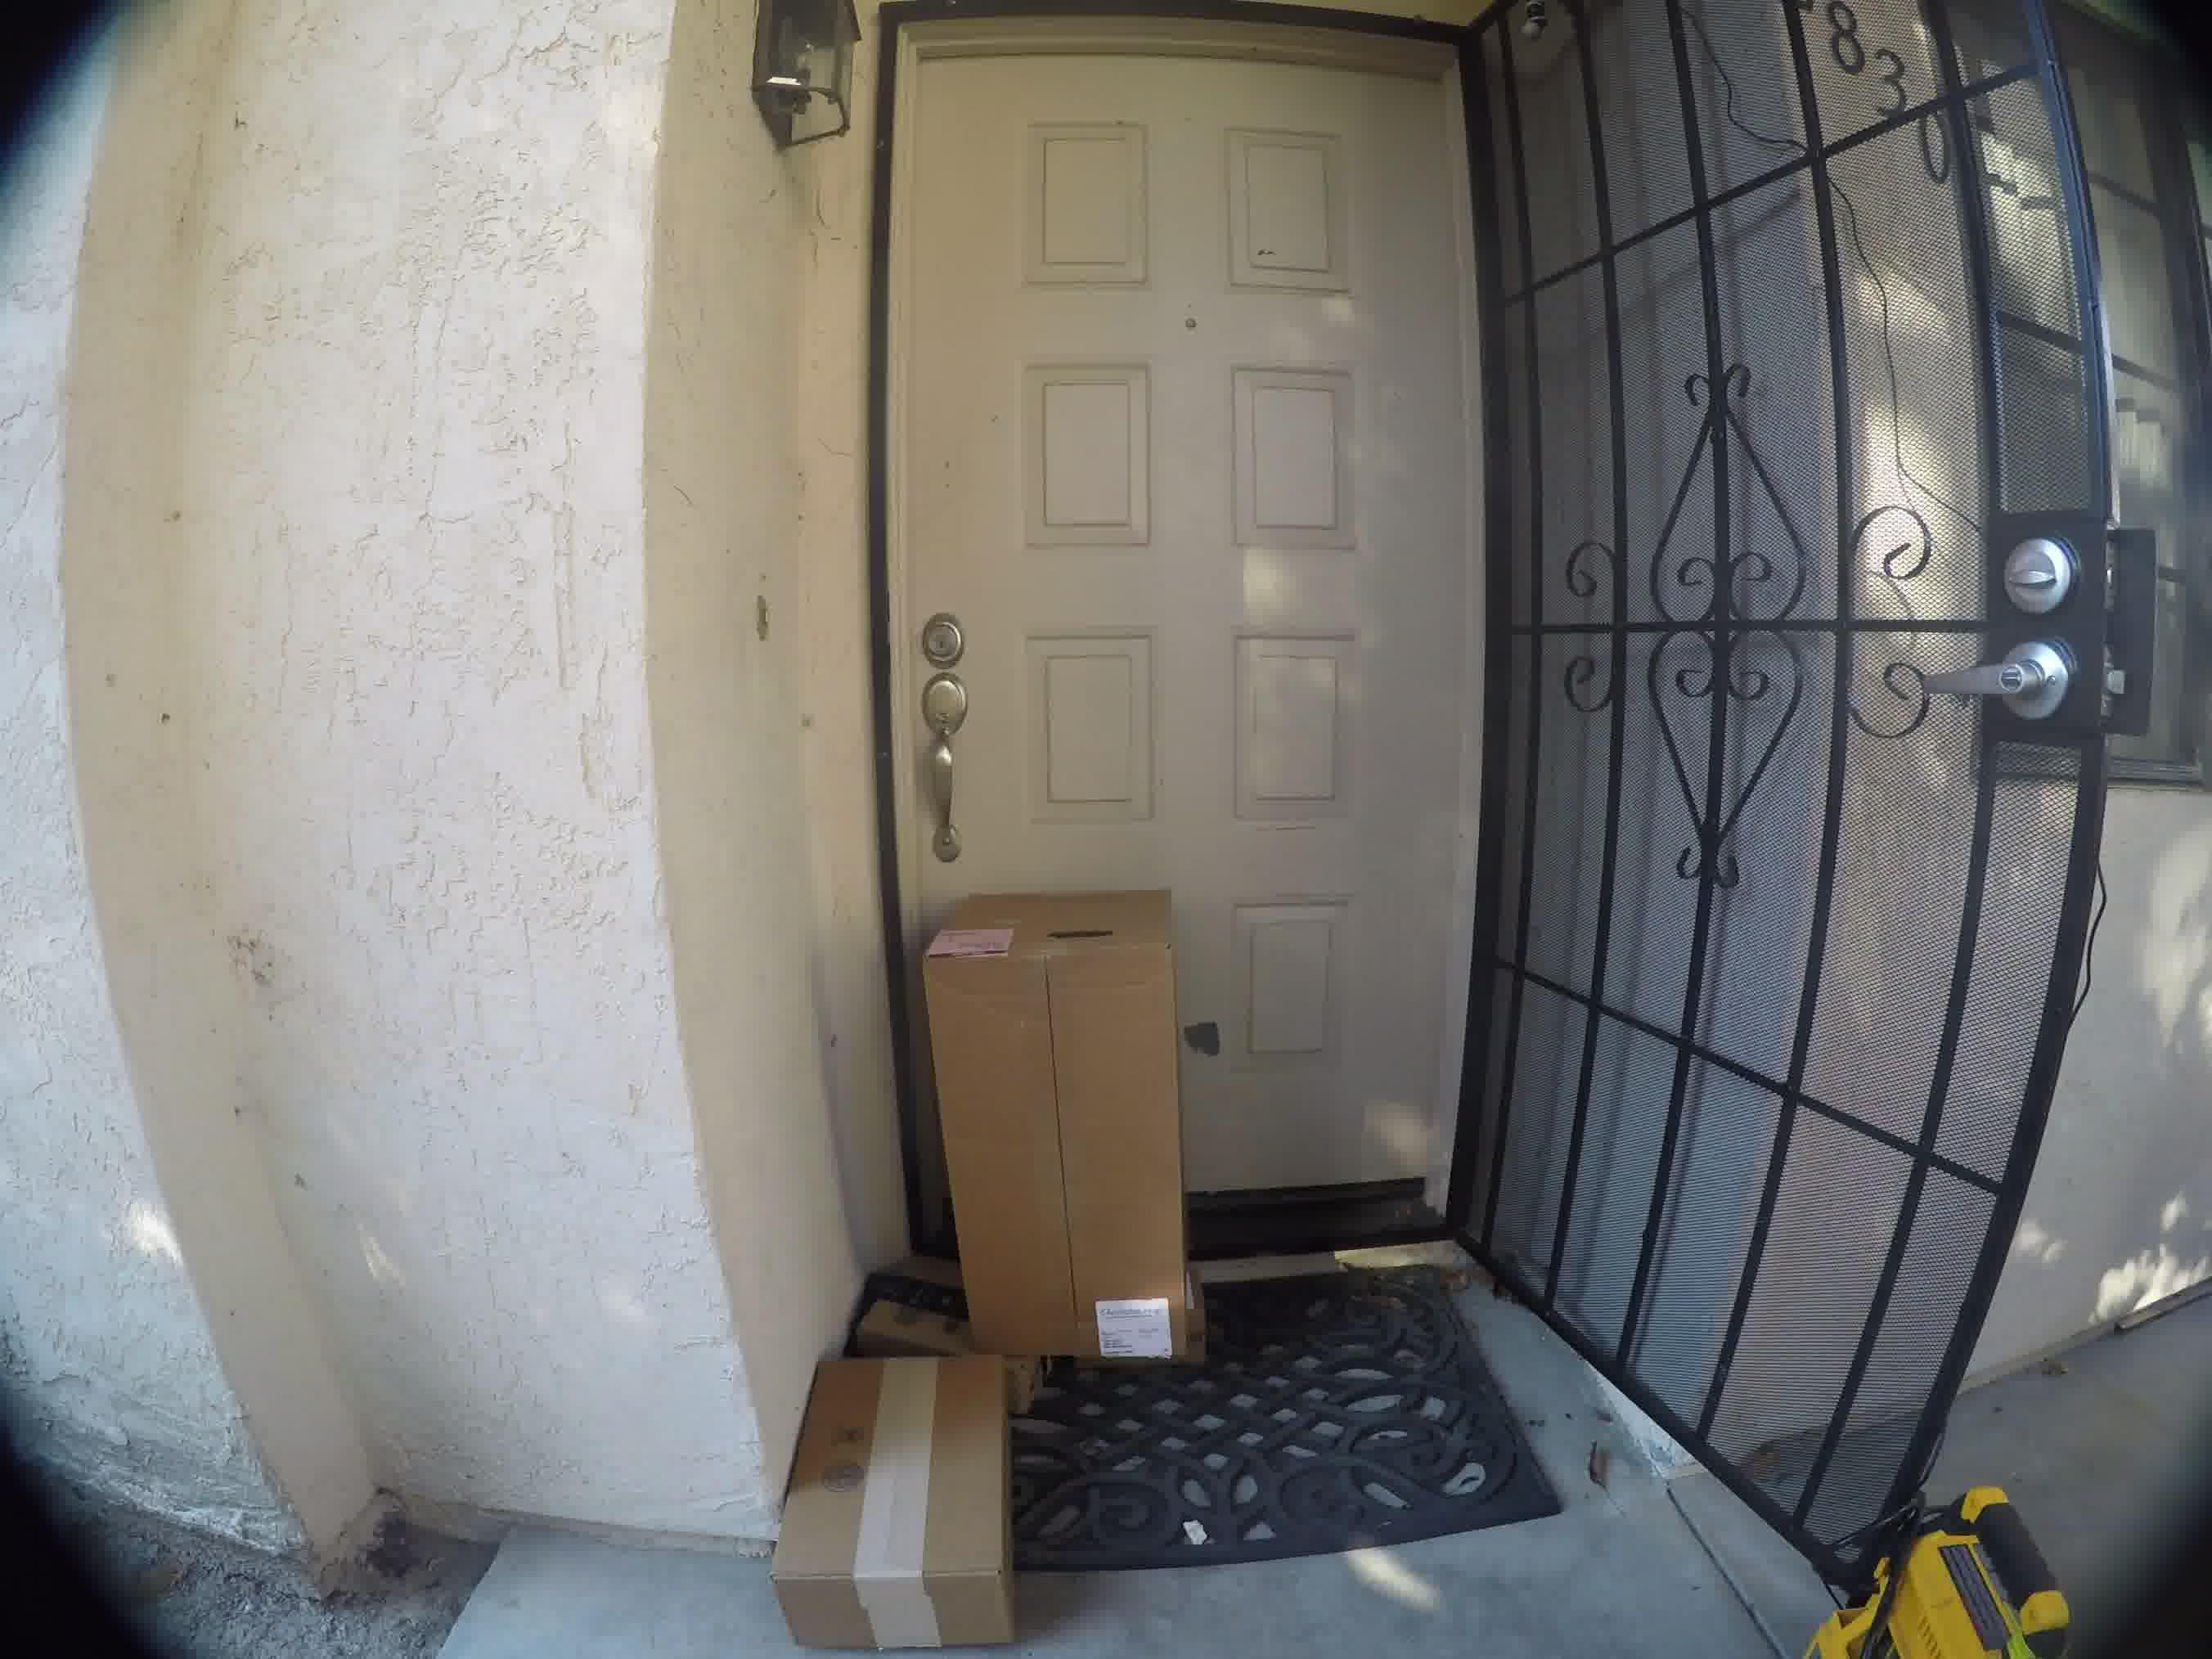box: (918, 880, 1223, 1361), (791, 1335, 1015, 1643)
